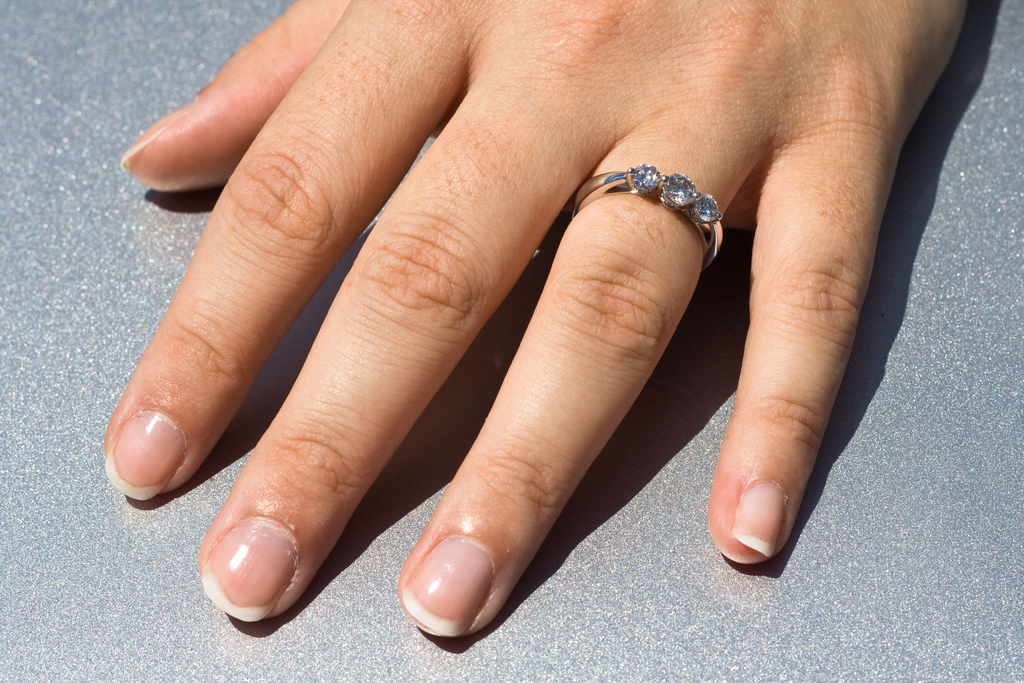Human_hand: (101, 1, 967, 640)
